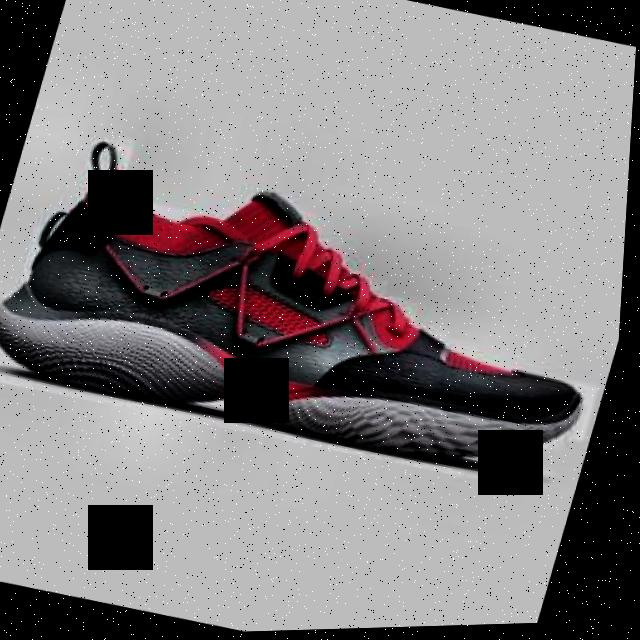shoe: (0, 119, 634, 505)
